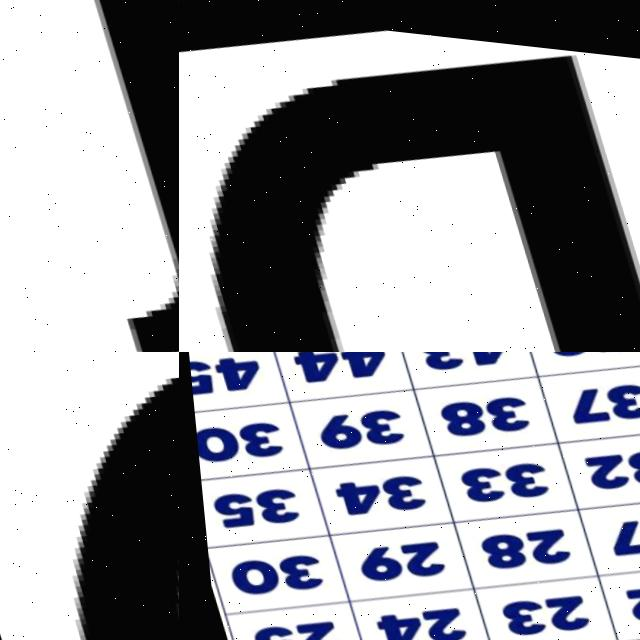0: (215, 547, 282, 604), (191, 415, 241, 471)
2: (388, 525, 446, 581), (516, 511, 570, 566), (408, 593, 464, 640), (532, 578, 584, 628), (577, 435, 629, 485), (281, 607, 338, 640), (610, 565, 640, 621)
3: (475, 376, 539, 433), (446, 450, 504, 506), (242, 476, 300, 530), (371, 461, 430, 513), (484, 582, 540, 636), (225, 412, 284, 463), (266, 543, 322, 596), (494, 445, 547, 496), (353, 397, 405, 448), (596, 363, 640, 418), (615, 428, 640, 482), (406, 352, 467, 374)
4: (317, 467, 381, 525), (356, 594, 424, 640), (207, 352, 265, 397), (276, 352, 341, 392), (333, 352, 390, 383), (457, 352, 510, 365)
5: (199, 481, 257, 537), (230, 615, 294, 640), (186, 352, 216, 404)
7: (551, 367, 612, 422), (592, 501, 640, 554)
8: (465, 516, 525, 569), (429, 386, 491, 436)
9: (302, 400, 365, 454), (342, 533, 404, 584)
D: (179, 3, 640, 352)
O: (66, 361, 179, 640)
